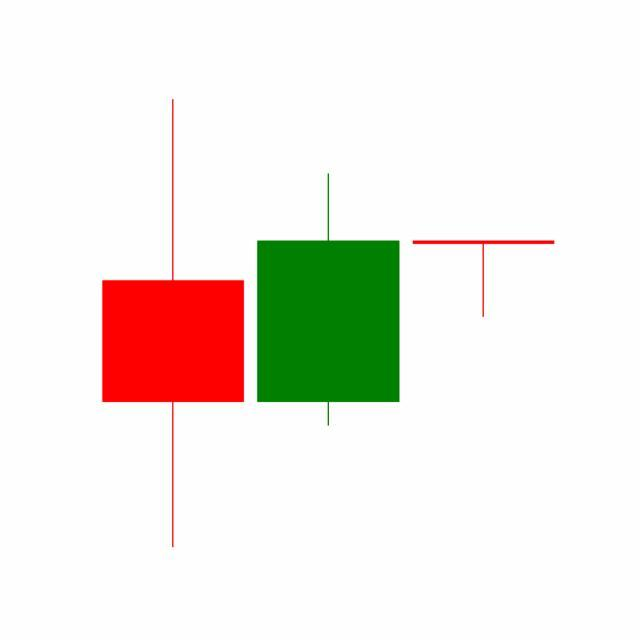Dragonfly Doji: (406, 240, 562, 318)
